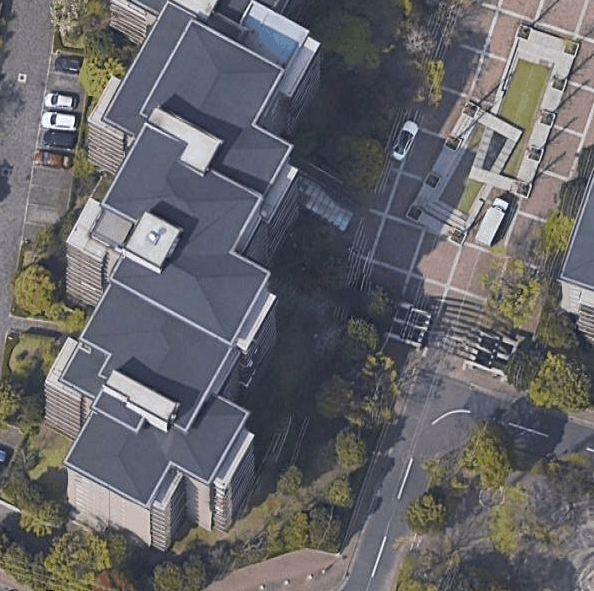rooftop: (114, 77, 256, 213)
